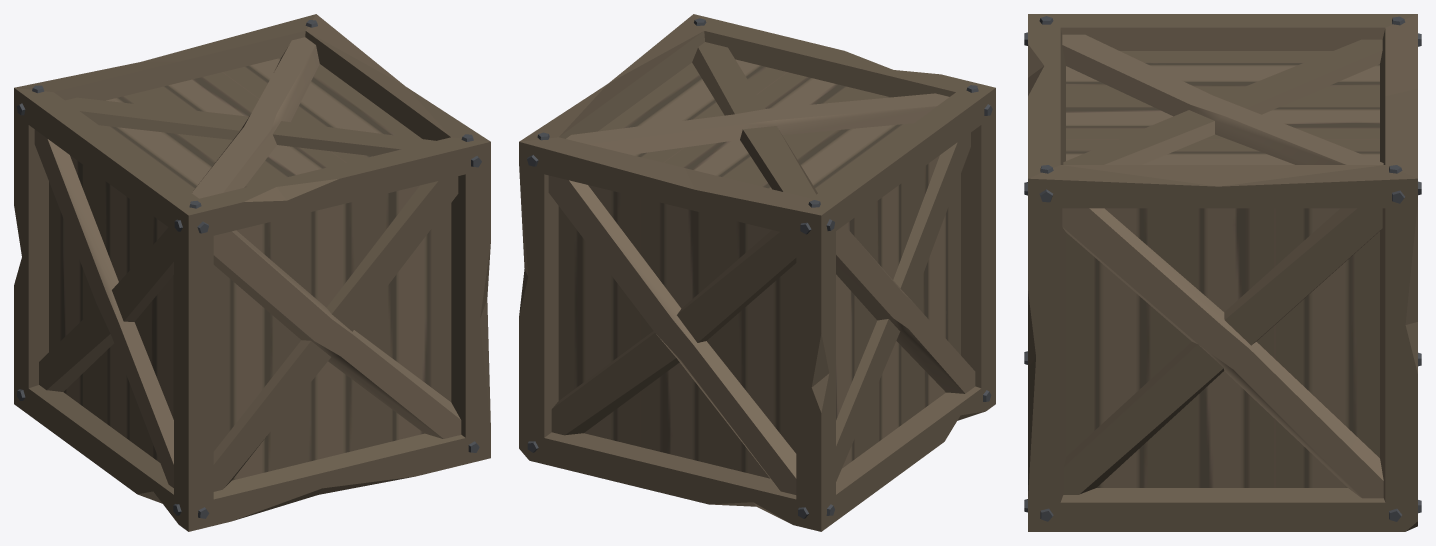
File: SM_Prop_Crate_Cube_02.glb
3 renders of one model, left to right at view 1: azimuth 30°, elevation 25°; view 2: azimuth 150°, elevation 25°; view 3: azimuth 270°, elevation 25°, orthographic. The views are drawn at different scales.
Visible parts, largest first — view 1: SM_Prop_Crate_Cube_02; view 2: SM_Prop_Crate_Cube_02; view 3: SM_Prop_Crate_Cube_02.
Boxes of the visible parts, bbox=[...] form: SM_Prop_Crate_Cube_02: bbox=[14, 14, 490, 531]; SM_Prop_Crate_Cube_02: bbox=[519, 14, 995, 531]; SM_Prop_Crate_Cube_02: bbox=[1024, 14, 1421, 531].
Bounding box in the file's own units: 1.85 × 1.85 × 1.85.
Materials: 1 (1 with a texture image).
